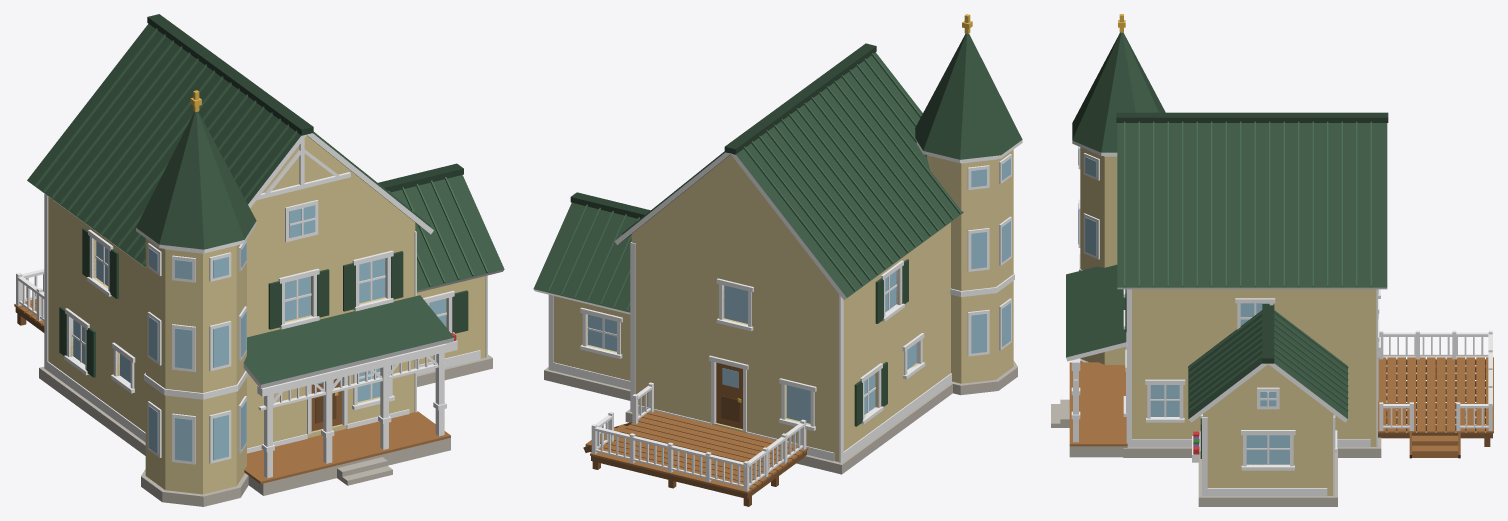
Rendered from base-10-level3.glb.
3 views of the same model, side by side, from view 1: azimuth 30°, elevation 25°; view 2: azimuth 150°, elevation 25°; view 3: azimuth 270°, elevation 25° (orthographic). The views are drawn at different scales.
Visible parts, largest first — view 1: base_house_10_finished, piece_addition, piece_deck; view 2: base_house_10_finished, piece_addition, piece_deck; view 3: base_house_10_finished, piece_addition, piece_deck.
Boxes of the visible parts, x1=… form: base_house_10_finished: x1=27, y1=14, x2=454, y2=506; piece_addition: x1=378, y1=163, x2=504, y2=386; piece_deck: x1=14, y1=269, x2=44, y2=332; base_house_10_finished: x1=614, y1=14, x2=1022, y2=474; piece_addition: x1=533, y1=192, x2=650, y2=400; piece_deck: x1=583, y1=382, x2=807, y2=506; base_house_10_finished: x1=1051, y1=14, x2=1388, y2=457; piece_addition: x1=1188, y1=304, x2=1348, y2=506; piece_deck: x1=1378, y1=330, x2=1493, y2=458.
Bounding box in the file's own units: 13.9 × 13.19 × 15.27.
